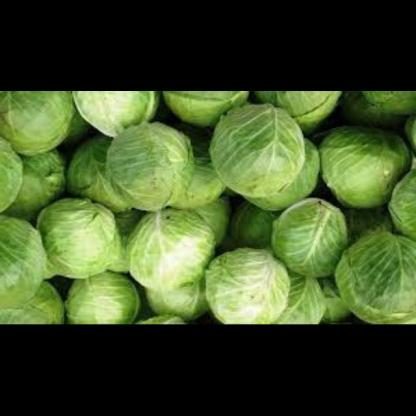cabbage: (95, 202, 222, 289), (195, 107, 306, 206), (319, 216, 416, 326), (304, 118, 410, 218), (101, 115, 192, 226), (183, 248, 292, 325), (267, 190, 353, 282), (19, 195, 106, 282), (0, 92, 82, 160), (66, 92, 160, 150), (0, 252, 72, 325), (155, 92, 258, 138), (51, 270, 141, 322), (265, 92, 352, 142), (1, 217, 48, 307), (0, 153, 52, 204)
